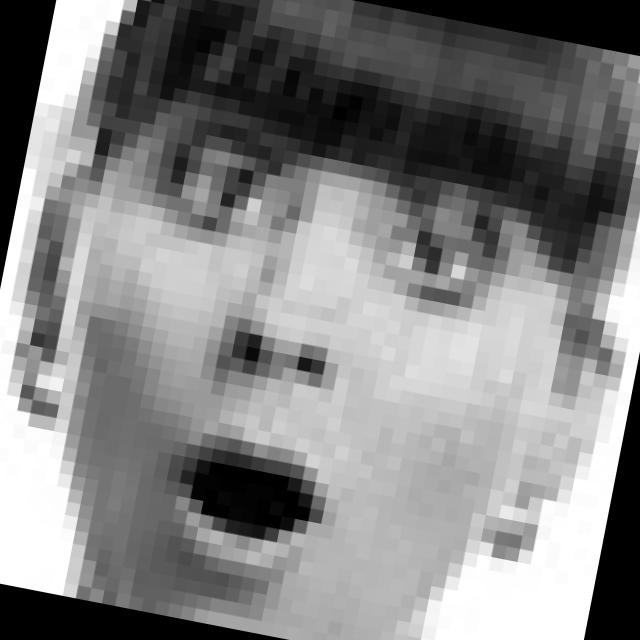surprise: (76, 105, 518, 626)
